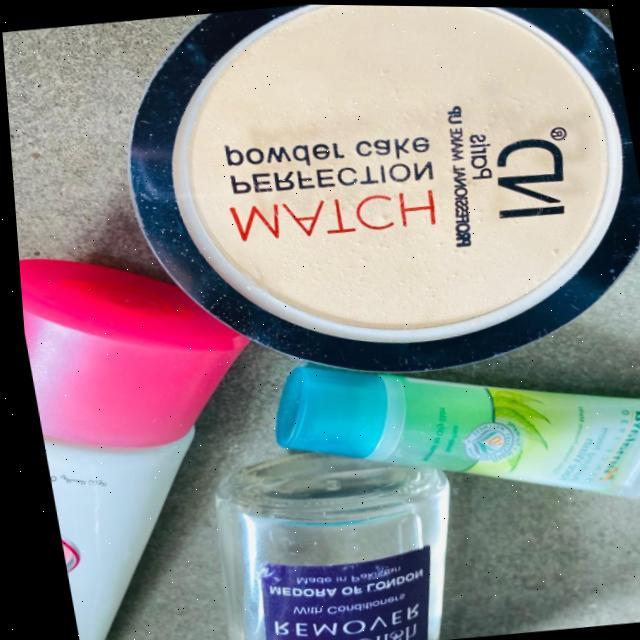gel: (234, 324, 640, 535)
lotion: (14, 235, 287, 640)
powder: (81, 1, 640, 403)
